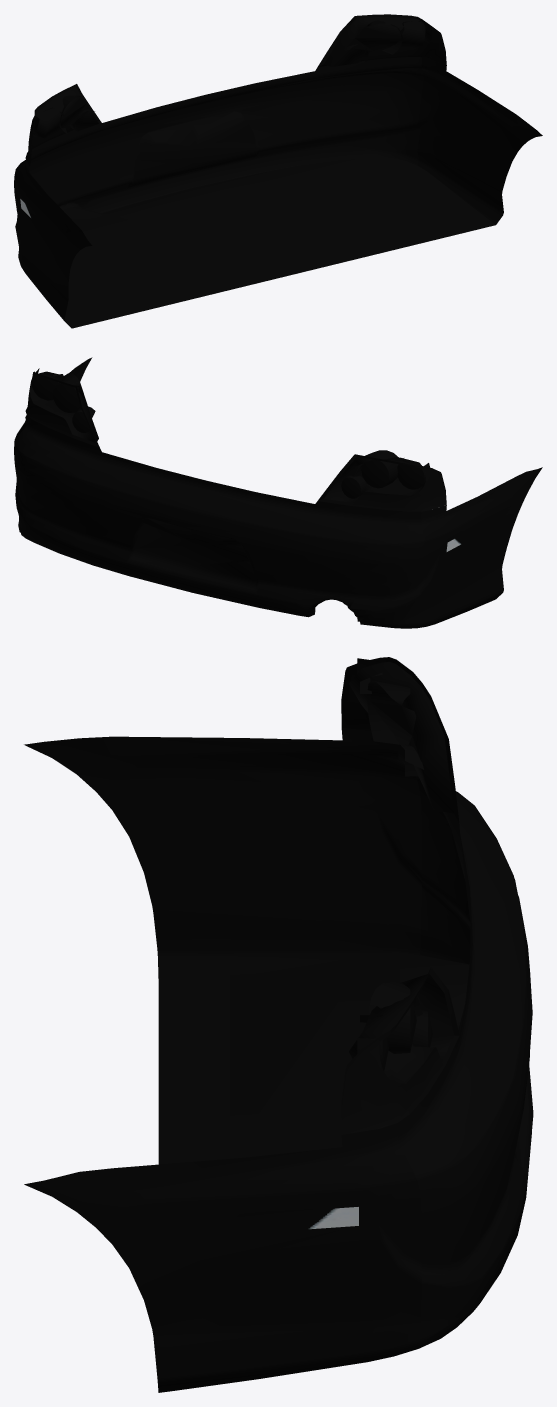
Rendered from evo9_behind_boot.FBX.
The picture shows the model from 3 angles, top to bottom: view 1: azimuth 30°, elevation 25°; view 2: azimuth 150°, elevation 25°; view 3: azimuth 270°, elevation 25°; orthographic projection. The views are drawn at different scales.
Parts seen in each view (by area): view 1: BumperR, BLightL, BLightR; view 2: BumperR, BLightR, BLightL; view 3: BumperR, BLightL, BLightR.
Part boxes in pixels (bbox=[...]): BumperR: bbox=[14, 57, 542, 328]; BLightL: bbox=[318, 14, 446, 66]; BLightR: bbox=[25, 84, 99, 166]; BumperR: bbox=[14, 357, 542, 628]; BLightR: bbox=[318, 450, 446, 511]; BLightL: bbox=[25, 368, 99, 447]; BumperR: bbox=[24, 728, 533, 1392]; BLightL: bbox=[341, 967, 459, 1134]; BLightR: bbox=[341, 657, 459, 822].
Bounding box in the file's own units: 44.42 × 16.69 × 21.77.
